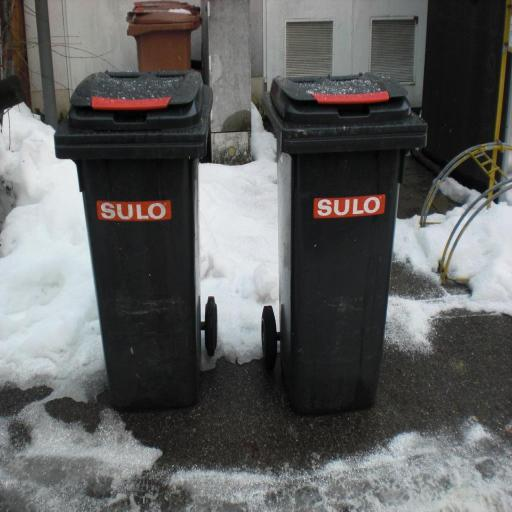trash-can: (247, 59, 435, 428), (54, 67, 224, 416)
